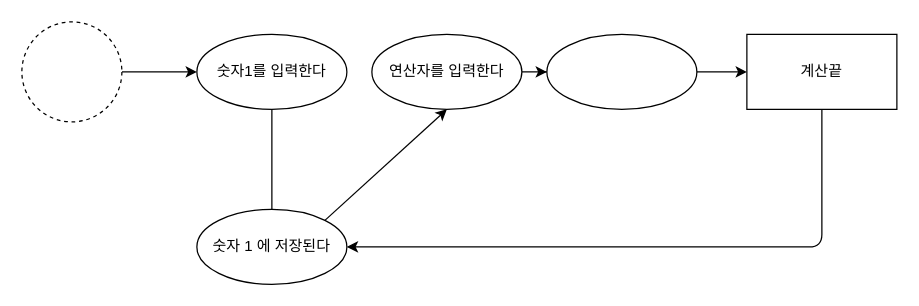
Image size: 919x306. Some labels were removed from this diagram. The centre of each missing label's shape, as x and y in pixels:
"숫자2를 입력한다" goes at point 621,71.
"시작" goes at point 71,71.
